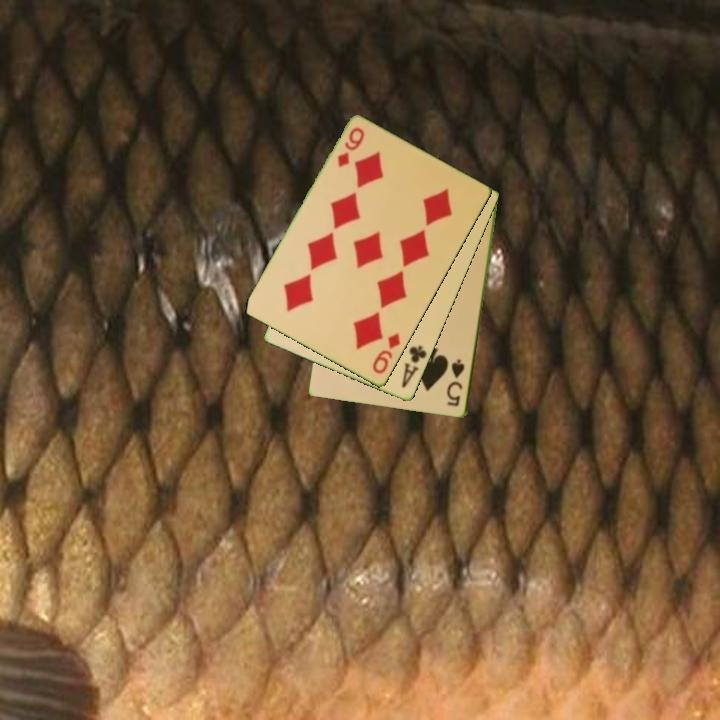5s: (444, 356, 468, 410)
9d: (369, 330, 403, 377), (334, 124, 368, 171)
Ac: (398, 342, 430, 391)
